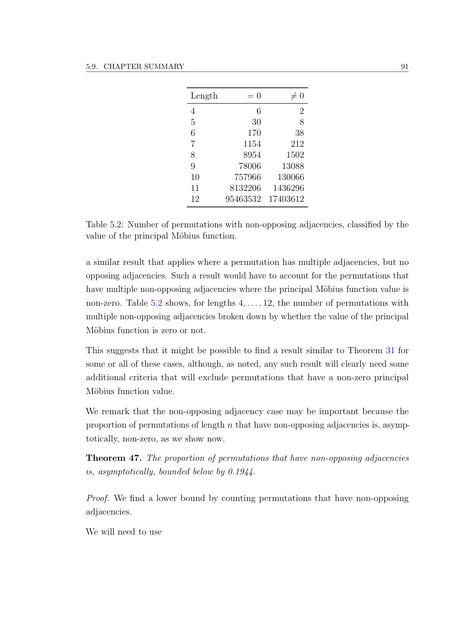box: (185, 84, 310, 209)
